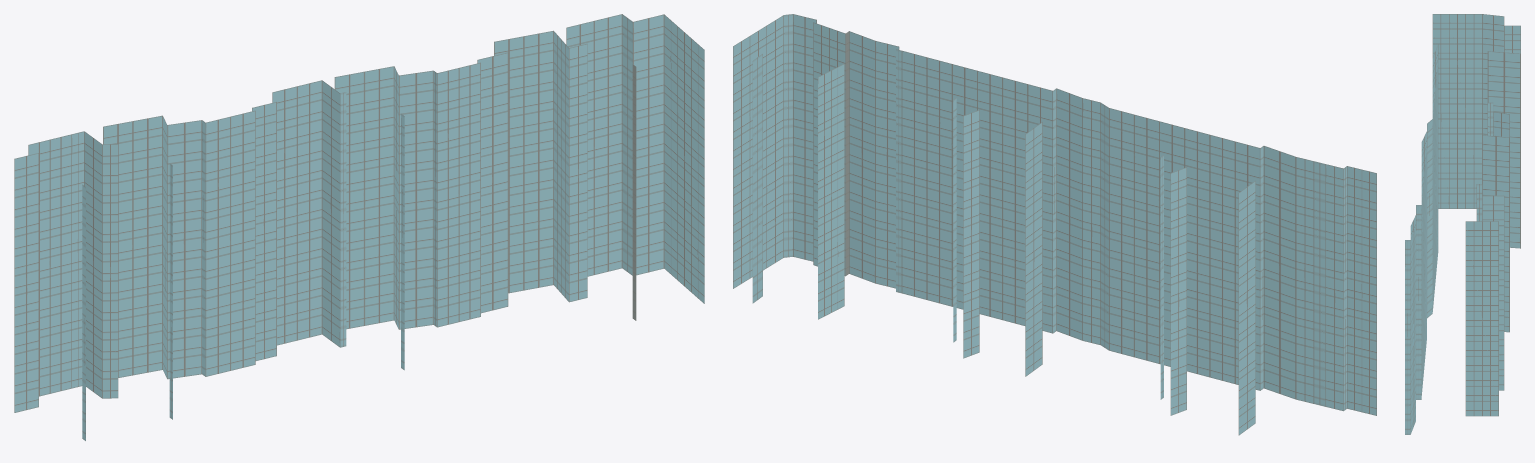
File: glass1.gltf
The picture shows the model from 3 angles, left to right: view 1: azimuth 30°, elevation 25°; view 2: azimuth 150°, elevation 25°; view 3: azimuth 270°, elevation 25°; orthographic projection. The views are drawn at different scales.
Bounding box in the file's own units: 103 × 39 × 21.
2 materials, 1 textured.
